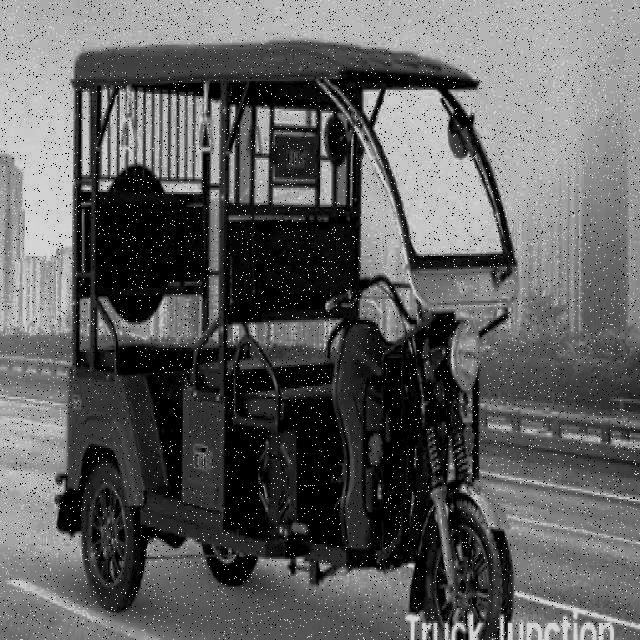Toto: (56, 34, 522, 640)
